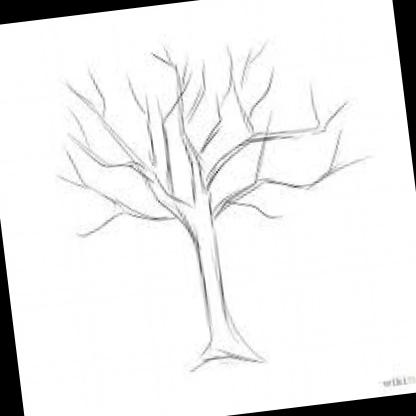branch_sharp: (47, 27, 376, 244)
root_only: (186, 340, 264, 372)
trunk_straight: (184, 226, 244, 349)
